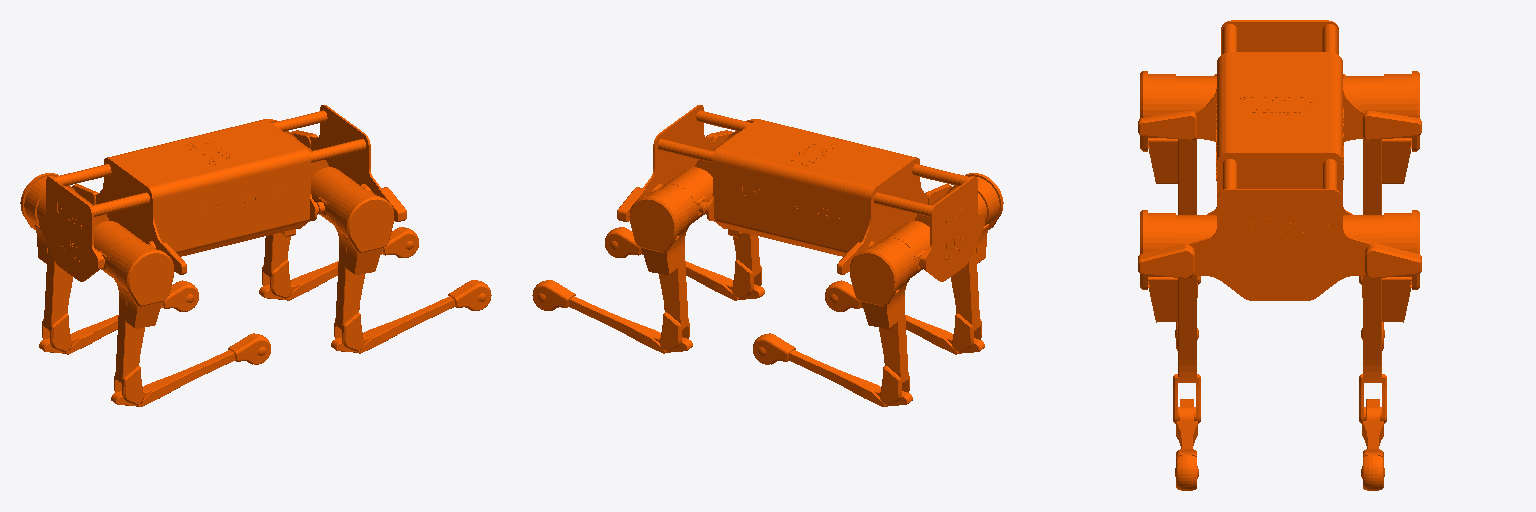
--- Render facts (derived) ---
3 views of the same robot in one strip: view 1: azimuth 30°, elevation 25°; view 2: azimuth 150°, elevation 25°; view 3: azimuth 270°, elevation 25° (orthographic).
Robot: laikago — 23 links, 22 joints (16 revolute, 6 fixed); root link base; default pose: joints at zero except 4 at the middle of their limits (FL_calf_joint = -1.69, FR_calf_joint = -1.69, RR_calf_joint = -1.69, RL_calf_joint = -1.69).
Visible links, largest first — view 1: trunk, FR_thigh, RR_thigh, RL_thigh, FR_calf, RR_calf, FL_calf, RL_calf, FL_thigh, FR_hip, RR_hip; view 2: trunk, FL_thigh, RL_thigh, RR_thigh, FL_calf, RL_calf, FR_calf, RR_calf, FR_thigh, FL_hip, RL_hip; view 3: trunk, FL_thigh, FR_thigh, RR_thigh, RL_thigh, FL_calf, FR_calf.
Link boxes in pixels (left/top/right/bottom): trunk: left=39, top=105, right=406, bottom=281; FR_thigh: left=328, top=184, right=394, bottom=350; RR_thigh: left=108, top=238, right=173, bottom=404; RL_thigh: left=20, top=173, right=77, bottom=351; FR_calf: left=331, top=280, right=491, bottom=353; RR_calf: left=111, top=333, right=270, bottom=406; FL_calf: left=259, top=227, right=418, bottom=300; RL_calf: left=39, top=280, right=198, bottom=354; FL_thigh: left=262, top=119, right=298, bottom=297; FR_hip: left=311, top=167, right=361, bottom=222; RR_hip: left=94, top=221, right=140, bottom=277; trunk: left=617, top=105, right=984, bottom=281; FL_thigh: left=629, top=184, right=695, bottom=350; RL_thigh: left=850, top=238, right=915, bottom=404; RR_thigh: left=946, top=173, right=1003, bottom=351; FL_calf: left=532, top=280, right=692, bottom=353; RL_calf: left=753, top=333, right=912, bottom=406; FR_calf: left=605, top=227, right=764, bottom=300; RR_calf: left=825, top=280, right=984, bottom=354; FR_thigh: left=725, top=119, right=761, bottom=297; FL_hip: left=662, top=167, right=712, bottom=222; RL_hip: left=883, top=221, right=929, bottom=277; trunk: left=1138, top=20, right=1421, bottom=300; FL_thigh: left=1359, top=210, right=1419, bottom=423; FR_thigh: left=1140, top=210, right=1200, bottom=423; RR_thigh: left=1140, top=71, right=1200, bottom=284; RL_thigh: left=1359, top=71, right=1419, bottom=284; FL_calf: left=1362, top=399, right=1383, bottom=490; FR_calf: left=1176, top=399, right=1197, bottom=490.
Bounding box of the posed robot: 0.7668 × 0.3799 × 0.3787 m (x, y, z).
13 mesh visuals loaded from 5 distinct referenced files (5 OBJ).

robot.urdf — laikago:
<?xml version="1.0" ?>
<!-- =================================================================================== -->
<!-- |    This document was autogenerated by xacro from robot.xacro                    | -->
<!-- |    EDITING THIS FILE BY HAND IS NOT RECOMMENDED                                 | -->
<!-- =================================================================================== -->
<robot name="laikago" xmlns:xacro="http://www.ros.org/wiki/xacro">
  <material name="black">
    <color rgba="0.0 0.0 0.0 1.0"/>
  </material>
  <material name="blue">
    <color rgba="0.0 0.0 0.8 1.0"/>
  </material>
  <material name="green">
    <color rgba="0.0 0.8 0.0 1.0"/>
  </material>
  <material name="grey">
    <color rgba="0.2 0.2 0.2 1.0"/>
  </material>
  <material name="silver">
    <color rgba="0.913725490196 0.913725490196 0.847058823529 1.0"/>
  </material>
  <material name="orange">
    <color rgba="1.0 0.423529411765 0.0392156862745 1.0"/>
  </material>
  <material name="brown">
    <color rgba="0.870588235294 0.811764705882 0.764705882353 1.0"/>
  </material>
  <material name="red">
    <color rgba="0.8 0.0 0.0 1.0"/>
  </material>
  <material name="white">
    <color rgba="1.0 1.0 1.0 1.0"/>
  </material>
  <!-- Base footpoint Link -->
  <link name="base">
    <visual>
      <origin rpy="0 0 0" xyz="0 0 0"/>
      <geometry>
        <box size="0.001 0.001 0.001"/>
      </geometry>
    </visual>
    <inertial>
      <mass value="0.001"/>
      <origin rpy="0 0 0" xyz="0 0 0"/>
      <inertia ixx="0.0001" ixy="0" ixz="0" iyy="0.000001" iyz="0" izz="0.0001"/>
    </inertial>
  </link>
  <joint name="floating_base" type="fixed">
    <origin rpy="0 0 0" xyz="0 0 0"/>
    <parent link="base"/>
    <child link="trunk"/>
  </joint>
  <!-- Base Link -->
  <link name="trunk">
    <visual>
      <origin rpy="0 0 0" xyz="0 0 0"/>
      <geometry>
        <mesh filename="meshes/trunk.obj" scale="0.025 0.025 0.025"/>
      </geometry>
      <material name="orange"/>
    </visual>
    <collision>
      <origin rpy="0 0 0" xyz="0 0 0.01675"/>
      <geometry>
        <box size="0.5616 0.172 0.1875"/>
      </geometry>
    </collision>
    <inertial>
      <origin rpy="0 0 0" xyz="0.002284 -4.1e-05 0.025165"/>
      <mass value="13.733"/>
      <inertia ixx="0.073348887" ixy="0.00030338" ixz="0.001918218" iyy="0.250684593" iyz="-7.5402e-05" izz="0.254469458"/>
    </inertial>
  </link>
  <joint name="imu_joint" type="fixed">
    <parent link="trunk"/>
    <child link="imu_link"/>
    <origin rpy="0 0 0" xyz="0 0 0"/>
  </joint>
  <link name="imu_link">
    <inertial>
      <mass value="0.001"/>
      <origin rpy="0 0 0" xyz="0 0 0"/>
      <inertia ixx="0.0001" ixy="0" ixz="0" iyy="0.000001" iyz="0" izz="0.0001"/>
    </inertial>
    <visual>
      <origin rpy="0 0 0" xyz="0 0 0"/>
      <geometry>
        <box size="0.001 0.001 0.001"/>
      </geometry>
      <material name="red"/>
    </visual>
    <collision>
      <origin rpy="0 0 0" xyz="0 0 0"/>
      <geometry>
        <box size=".001 .001 .001"/>
      </geometry>
    </collision>
  </link>
  <joint name="FL_hip_joint" type="revolute">
    <origin rpy="0 0 0" xyz="0.21935 0.0875 0"/>
    <parent link="trunk"/>
    <child link="FL_hip"/>
    <axis xyz="1 0 0"/>
    <dynamics damping="0" friction="0"/>
    <limit effort="20" lower="-0.872664625997" upper="1.0471975512" velocity="52.4"/>
  </joint>
  <link name="FL_hip">
    <visual>
      <origin rpy="0 0 0" xyz="0 0 0"/>
      <geometry>
        <mesh filename="meshes/hip.obj" scale="1 1 1"/>
      </geometry>
      <material name="orange"/>
    </visual>
    <collision>
      <origin rpy="1.57079632679 0 0" xyz="0 -0.021 0"/>
      <geometry>
        <cylinder length="0.08" radius="0.041"/>
      </geometry>
    </collision>
    <inertial>
      <origin rpy="0 0 0" xyz="-0.001568 -0.008134 0.000864"/>
      <mass value="1.096"/>
      <inertia ixx="0.000822113" ixy="-4.982e-06" ixz="-3.672e-05" iyy="0.000983196" iyz="2.811e-06" izz="0.000864753"/>
    </inertial>
  </link>
  <joint name="FL_hip_fixed" type="fixed">
    <origin rpy="0 0 0" xyz="0 0.059 0"/>
    <parent link="FL_hip"/>
    <child link="FL_thigh_shoulder"/>
  </joint>
  <!-- this link is only for collision -->
  <link name="FL_thigh_shoulder">
    <collision>
      <origin rpy="1.57079632679 0 0" xyz="0 0 0"/>
      <geometry>
        <cylinder length="0.08" radius="0.044"/>
      </geometry>
    </collision>

    <inertial>
      <mass value="0.001"/>
      <origin rpy="1.57079632679 0 0" xyz="0 0 0"/>
      <inertia ixx="0.0001" ixy="0" ixz="0" iyy="0.000001" iyz="0" izz="0.0001"/>
    </inertial>
  </link>
  <joint name="FL_thigh_joint" type="revolute">
    <origin rpy="0 0 0" xyz="0 0.037 0"/>
    <parent link="FL_hip"/>
    <child link="FL_thigh"/>
    <axis xyz="0 1 0"/>
    <dynamics damping="0" friction="0"/>
    <limit effort="55" lower="-0.523598775598" upper="3.92699081699" velocity="28.6"/>
  </joint>
  <link name="FL_thigh">
    <visual>
      <origin rpy="0 0 0" xyz="0 0 0"/>
      <geometry>
        <mesh filename="meshes/thigh.obj" scale="1 1 1"/>
      </geometry>
      <material name="orange"/>
    </visual>
    <collision>
      <origin rpy="0 1.57079632679 0" xyz="0 0 -0.125"/>
      <geometry>
        <box size="0.25 0.034 0.043"/>
      </geometry>
    </collision>
    <inertial>
      <origin rpy="0 0 0" xyz="-0.000482 0.02001 -0.031996"/>
      <mass value="1.528"/>
      <inertia ixx="0.00991611" ixy="1.0388e-05" ixz="0.000250428" iyy="0.009280083" iyz="-8.511e-05" izz="0.00178256"/>
    </inertial>
  </link>
  <joint name="FL_calf_joint" type="revolute">
    <origin rpy="0 0 0" xyz="0 0 -0.25"/>
    <parent link="FL_thigh"/>
    <child link="FL_calf"/>
    <axis xyz="0 1 0"/>
    <dynamics damping="0" friction="0"/>
    <limit effort="55" lower="-2.77507351067" upper="-0.610865238198" velocity="28.6"/>
  </joint>
  <link name="FL_calf">
    <visual>
      <origin rpy="0 0 0" xyz="0 0 0"/>
      <geometry>
        <mesh filename="meshes/calf.obj" scale="0.025 0.025 0.025"/>
      </geometry>
      <material name="orange"/>
    </visual>
    <collision>
      <origin rpy="0 1.57079632679 0" xyz="0 0 -0.125"/>
      <geometry>
        <box size="0.25 0.016 0.016"/>
      </geometry>
    </collision>
    <inertial>
      <origin rpy="0 0 0" xyz="-0.002196 -0.000381 -0.12338"/>
      <mass value="0.241"/>
      <inertia ixx="0.006181961" ixy="2.37e-07" ixz="-2.985e-06" iyy="0.006196546" iyz="5.138e-06" izz="3.4774e-05"/>
    </inertial>
  </link>
  <joint name="FL_foot_fixed" type="revolute">
    <origin rpy="0 0 0" xyz="0 0 -0.25"/>
    <parent link="FL_calf"/>
    <child link="FL_foot"/>
    <axis xyz="0 0 1"/>
    <limit effort="100.0" lower="-0.001" upper="0.001" velocity="0.05"/>
  </joint>
  <link name="FL_foot">
    <visual>
      <origin rpy="0 0 0" xyz="0 0 0"/>
      <geometry>
        <sphere radius="0.0165"/>
      </geometry>
      <material name="orange"/>
    </visual>
    <collision name="FL_foot_collision">
      <origin rpy="0 0 0" xyz="0 0 0"/>
      <geometry>
        <sphere radius="0.0265"/>
      </geometry>
    </collision>
    <inertial>
      <mass value="0.06"/>
      <inertia ixx="1.6854e-05" ixy="0.0" ixz="0.0" iyy="1.6854e-05" iyz="0.0" izz="1.6854e-05"/>
    </inertial>
  </link>
  <transmission name="FL_hip_tran">
    <type>transmission_interface/SimpleTransmission</type>
    <joint name="FL_hip_joint">
      <hardwareInterface>hardware_interface/EffortJointInterface</hardwareInterface>
    </joint>
    <actuator name="FL_hip_motor">
      <hardwareInterface>hardware_interface/EffortJointInterface</hardwareInterface>
      <mechanicalReduction>1</mechanicalReduction>
    </actuator>
  </transmission>
  <transmission name="FL_thigh_tran">
    <type>transmission_interface/SimpleTransmission</type>
    <joint name="FL_thigh_joint">
      <hardwareInterface>hardware_interface/EffortJointInterface</hardwareInterface>
    </joint>
    <actuator name="FL_thigh_motor">
      <hardwareInterface>hardware_interface/EffortJointInterface</hardwareInterface>
      <mechanicalReduction>1</mechanicalReduction>
    </actuator>
  </transmission>
  <transmission name="FL_calf_tran">
    <type>transmission_interface/SimpleTransmission</type>
    <joint name="FL_calf_joint">
      <hardwareInterface>hardware_interface/EffortJointInterface</hardwareInterface>
    </joint>
    <actuator name="FL_calf_motor">
      <hardwareInterface>hardware_interface/EffortJointInterface</hardwareInterface>
      <mechanicalReduction>1</mechanicalReduction>
    </actuator>
  </transmission>
  <joint name="FR_hip_joint" type="revolute">
    <origin rpy="0 0 0" xyz="0.21935 -0.0875 0"/>
    <parent link="trunk"/>
    <child link="FR_hip"/>
    <axis xyz="1 0 0"/>
    <dynamics damping="0" friction="0"/>
    <limit effort="20" lower="-1.0471975512" upper="0.872664625997" velocity="52.4"/>
  </joint>
  <link name="FR_hip">
    <visual>
      <origin rpy="3.14159265359 0 0" xyz="0 0 0"/>
      <geometry>
        <mesh filename="meshes/hip.obj" scale="1 1 1"/>
      </geometry>
      <material name="orange"/>
    </visual>
    <collision>
      <origin rpy="1.57079632679 0 0" xyz="0 0.021 0"/>
      <geometry>
        <cylinder length="0.08" radius="0.041"/>
      </geometry>
    </collision>
    <inertial>
      <origin rpy="0 0 0" xyz="-0.001568 0.008134 0.000864"/>
      <mass value="1.096"/>
      <inertia ixx="0.000822113" ixy="4.982e-06" ixz="-3.672e-05" iyy="0.000983196" iyz="-2.811e-06" izz="0.000864753"/>
    </inertial>
  </link>
  <joint name="FR_hip_fixed" type="fixed">
    <origin rpy="0 0 0" xyz="0 -0.059 0"/>
    <parent link="FR_hip"/>
    <child link="FR_thigh_shoulder"/>
  </joint>
  <!-- this link is only for collision -->
  <link name="FR_thigh_shoulder">
    <collision>
      <origin rpy="1.57079632679 0 0" xyz="0 0 0"/>
      <geometry>
        <cylinder length="0.08" radius="0.044"/>
      </geometry>
    </collision>
    <inertial>
      <mass value="0.001"/>
      <origin rpy="1.57079632679 0 0" xyz="0 0 0"/>
      <inertia ixx="0.0001" ixy="0" ixz="0" iyy="0.000001" iyz="0" izz="0.0001"/>
    </inertial>
  </link>
  <joint name="FR_thigh_joint" type="revolute">
    <origin rpy="0 0 0" xyz="0 -0.037 0"/>
    <parent link="FR_hip"/>
    <child link="FR_thigh"/>
    <axis xyz="0 1 0"/>
    <dynamics damping="0" friction="0"/>
    <limit effort="55" lower="-0.523598775598" upper="3.92699081699" velocity="28.6"/>
  </joint>
  <link name="FR_thigh">
    <visual>
      <origin rpy="0 0 0" xyz="0 0 0"/>
      <geometry>
        <mesh filename="meshes/thigh_mirror.obj" scale="1 1 1"/>
      </geometry>
      <material name="orange"/>
    </visual>
    <collision>
      <origin rpy="0 1.57079632679 0" xyz="0 0 -0.125"/>
      <geometry>
        <box size="0.25 0.034 0.043"/>
      </geometry>
    </collision>
    <inertial>
      <origin rpy="0 0 0" xyz="-0.000482 -0.02001 -0.031996"/>
      <mass value="1.528"/>
      <inertia ixx="0.00991611" ixy="-1.0388e-05" ixz="0.000250428" iyy="0.009280083" iyz="8.511e-05" izz="0.00178256"/>
    </inertial>
  </link>
  <joint name="FR_calf_joint" type="revolute">
    <origin rpy="0 0 0" xyz="0 0 -0.25"/>
    <parent link="FR_thigh"/>
    <child link="FR_calf"/>
    <axis xyz="0 1 0"/>
    <dynamics damping="0" friction="0"/>
    <limit effort="55" lower="-2.77507351067" upper="-0.610865238198" velocity="28.6"/>
  </joint>
  <link name="FR_calf">
    <visual>
      <origin rpy="0 0 0" xyz="0 0 0"/>
      <geometry>
        <mesh filename="meshes/calf.obj" scale="0.025 0.025 0.025"/>
      </geometry>
      <material name="orange"/>
    </visual>
    <collision>
      <origin rpy="0 1.57079632679 0" xyz="0 0 -0.125"/>
      <geometry>
        <box size="0.25 0.016 0.016"/>
      </geometry>
    </collision>
    <inertial>
      <origin rpy="0 0 0" xyz="-0.002196 -0.000381 -0.12338"/>
      <mass value="0.241"/>
      <inertia ixx="0.006181961" ixy="2.37e-07" ixz="-2.985e-06" iyy="0.006196546" iyz="5.138e-06" izz="3.4774e-05"/>
    </inertial>
  </link>
  <joint name="FR_foot_fixed" type="revolute">
    <origin rpy="0 0 0" xyz="0 0 -0.25"/>
    <parent link="FR_calf"/>
    <child link="FR_foot"/>
    <axis xyz="0 0 1"/>
    <limit effort="100.0" lower="-0.001" upper="0.001" velocity="0.05"/>
  </joint>
  <link name="FR_foot">
    <visual>
      <origin rpy="0 0 0" xyz="0 0 0"/>
      <geometry>
        <sphere radius="0.0165"/>
      </geometry>
      <material name="orange"/>
    </visual>
    <collision name="FR_foot_collision">
      <origin rpy="0 0 0" xyz="0 0 0"/>
      <geometry>
        <sphere radius="0.0265"/>
      </geometry>
    </collision>
    <inertial>
      <mass value="0.06"/>
      <inertia ixx="1.6854e-05" ixy="0.0" ixz="0.0" iyy="1.6854e-05" iyz="0.0" izz="1.6854e-05"/>
    </inertial>
  </link>
  <transmission name="FR_hip_tran">
    <type>transmission_interface/SimpleTransmission</type>
    <joint name="FR_hip_joint">
      <hardwareInterface>hardware_interface/EffortJointInterface</hardwareInterface>
    </joint>
    <actuator name="FR_hip_motor">
      <hardwareInterface>hardware_interface/EffortJointInterface</hardwareInterface>
      <mechanicalReduction>1</mechanicalReduction>
    </actuator>
  </transmission>
  <transmission name="FR_thigh_tran">
    <type>transmission_interface/SimpleTransmission</type>
    <joint name="FR_thigh_joint">
      <hardwareInterface>hardware_interface/EffortJointInterface</hardwareInterface>
    </joint>
    <actuator name="FR_thigh_motor">
      <hardwareInterface>hardware_interface/EffortJointInterface</hardwareInterface>
      <mechanicalReduction>1</mechanicalReduction>
    </actuator>
  </transmission>
  <transmission name="FR_calf_tran">
    <type>transmission_interface/SimpleTransmission</type>
    <joint name="FR_calf_joint">
      <hardwareInterface>hardware_interface/EffortJointInterface</hardwareInterface>
    </joint>
    <actuator name="FR_calf_motor">
      <hardwareInterface>hardware_interface/EffortJointInterface</hardwareInterface>
      <mechanicalReduction>1</mechanicalReduction>
    </actuator>
  </transmission>
  <joint name="RR_hip_joint" type="revolute">
    <origin rpy="0 0 0" xyz="-0.21935 -0.0875 0"/>
    <parent link="trunk"/>
    <child link="RR_hip"/>
    <axis xyz="1 0 0"/>
    <dynamics damping="0" friction="0"/>
    <limit effort="20" lower="-1.0471975512" upper="0.872664625997" velocity="52.4"/>
  </joint>
  <link name="RR_hip">
    <visual>
      <origin rpy="3.14159265359 3.14159265359 0" xyz="0 0 0"/>
      <geometry>
        <mesh filename="meshes/hip.obj" scale="1 1 1"/>
      </geometry>
      <material name="orange"/>
    </visual>
    <collision>
      <origin rpy="1.57079632679 0 0" xyz="0 0.021 0"/>
      <geometry>
        <cylinder length="0.08" radius="0.041"/>
      </geometry>
    </collision>
    <inertial>
      <origin rpy="0 0 0" xyz="0.001568 0.008134 0.000864"/>
      <mass value="1.096"/>
      <inertia ixx="0.000822113" ixy="-4.982e-06" ixz="3.672e-05" iyy="0.000983196" iyz="-2.811e-06" izz="0.000864753"/>
    </inertial>
  </link>
  <joint name="RR_hip_fixed" type="fixed">
    <origin rpy="0 0 0" xyz="0 -0.059 0"/>
    <parent link="RR_hip"/>
    <child link="RR_thigh_shoulder"/>
  </joint>
  <!-- this link is only for collision -->
  <link name="RR_thigh_shoulder">
    <collision>
      <origin rpy="1.57079632679 0 0" xyz="0 0 0"/>
      <geometry>
        <cylinder length="0.08" radius="0.044"/>
      </geometry>
    </collision>
    <inertial>
      <mass value="0.001"/>
      <origin rpy="1.57079632679 0 0" xyz="0 0 0"/>
      <inertia ixx="0.0001" ixy="0" ixz="0" iyy="0.000001" iyz="0" izz="0.0001"/>
    </inertial>
  </link>
  <joint name="RR_thigh_joint" type="revolute">
    <origin rpy="0 0 0" xyz="0 -0.037 0"/>
    <parent link="RR_hip"/>
    <child link="RR_thigh"/>
    <axis xyz="0 1 0"/>
    <dynamics damping="0" friction="0"/>
    <limit effort="55" lower="-0.523598775598" upper="3.92699081699" velocity="28.6"/>
  </joint>
  <link name="RR_thigh">
    <visual>
      <origin rpy="0 0 0" xyz="0 0 0"/>
      <geometry>
        <mesh filename="meshes/thigh_mirror.obj" scale="1 1 1"/>
      </geometry>
      <material name="orange"/>
    </visual>
    <collision>
      <origin rpy="0 1.57079632679 0" xyz="0 0 -0.125"/>
      <geometry>
        <box size="0.25 0.034 0.043"/>
      </geometry>
    </collision>
    <inertial>
      <origin rpy="0 0 0" xyz="-0.000482 -0.02001 -0.031996"/>
      <mass value="1.528"/>
      <inertia ixx="0.00991611" ixy="-1.0388e-05" ixz="0.000250428" iyy="0.009280083" iyz="8.511e-05" izz="0.00178256"/>
    </inertial>
  </link>
  <joint name="RR_calf_joint" type="revolute">
    <origin rpy="0 0 0" xyz="0 0 -0.25"/>
    <parent link="RR_thigh"/>
    <child link="RR_calf"/>
    <axis xyz="0 1 0"/>
    <dynamics damping="0" friction="0"/>
    <limit effort="55" lower="-2.77507351067" upper="-0.610865238198" velocity="28.6"/>
  </joint>
  <link name="RR_calf">
    <visual>
      <origin rpy="0 0 0" xyz="0 0 0"/>
      <geometry>
        <mesh filename="meshes/calf.obj" scale="0.025 0.025 0.025"/>
      </geometry>
      <material name="orange"/>
    </visual>
    <collision>
      <origin rpy="0 1.57079632679 0" xyz="0 0 -0.125"/>
      <geometry>
        <box size="0.25 0.016 0.016"/>
      </geometry>
    </collision>
    <inertial>
      <origin rpy="0 0 0" xyz="-0.002196 -0.000381 -0.12338"/>
      <mass value="0.241"/>
      <inertia ixx="0.006181961" ixy="2.37e-07" ixz="-2.985e-06" iyy="0.006196546" iyz="5.138e-06" izz="3.4774e-05"/>
    </inertial>
  </link>
  <joint name="RR_foot_fixed" type="revolute">
    <origin rpy="0 0 0" xyz="0 0 -0.25"/>
    <parent link="RR_calf"/>
    <child link="RR_foot"/>
    <axis xyz="0 0 1"/>
    <limit effort="100.0" lower="-0.001" upper="0.001" velocity="0.05"/>
  </joint>
  <link name="RR_foot">
    <visual>
      <origin rpy="0 0 0" xyz="0 0 0"/>
      <geometry>
        <sphere radius="0.0165"/>
      </geometry>
      <material name="orange"/>
    </visual>
    <collision name="RR_foot_collision">
      <origin rpy="0 0 0" xyz="0 0 0"/>
      <geometry>
        <sphere radius="0.0265"/>
      </geometry>
    </collision>
    <inertial>
      <mass value="0.06"/>
      <inertia ixx="1.6854e-05" ixy="0.0" ixz="0.0" iyy="1.6854e-05" iyz="0.0" izz="1.6854e-05"/>
    </inertial>
  </link>
  <transmission name="RR_hip_tran">
    <type>transmission_interface/SimpleTransmission</type>
    <joint name="RR_hip_joint">
      <hardwareInterface>hardware_interface/EffortJointInterface</hardwareInterface>
    </joint>
    <actuator name="RR_hip_motor">
      <hardwareInterface>hardware_interface/EffortJointInterface</hardwareInterface>
      <mechanicalReduction>1</mechanicalReduction>
    </actuator>
  </transmission>
  <transmission name="RR_thigh_tran">
    <type>transmission_interface/SimpleTransmission</type>
    <joint name="RR_thigh_joint">
      <hardwareInterface>hardware_interface/EffortJointInterface</hardwareInterface>
    </joint>
    <actuator name="RR_thigh_motor">
      <hardwareInterface>hardware_interface/EffortJointInterface</hardwareInterface>
      <mechanicalReduction>1</mechanicalReduction>
    </actuator>
  </transmission>
  <transmission name="RR_calf_tran">
    <type>transmission_interface/SimpleTransmission</type>
    <joint name="RR_calf_joint">
      <hardwareInterface>hardware_interface/EffortJointInterface</hardwareInterface>
    </joint>
    <actuator name="RR_calf_motor">
      <hardwareInterface>hardware_interface/EffortJointInterface</hardwareInterface>
      <mechanicalReduction>1</mechanicalReduction>
    </actuator>
  </transmission>
  <joint name="RL_hip_joint" type="revolute">
    <origin rpy="0 0 0" xyz="-0.21935 0.0875 0"/>
    <parent link="trunk"/>
    <child link="RL_hip"/>
    <axis xyz="1 0 0"/>
    <dynamics damping="0" friction="0"/>
    <limit effort="20" lower="-0.872664625997" upper="1.0471975512" velocity="52.4"/>
  </joint>
  <link name="RL_hip">
    <visual>
      <origin rpy="0 3.14159265359 0" xyz="0 0 0"/>
      <geometry>
        <mesh filename="meshes/hip.obj" scale="1 1 1"/>
      </geometry>
      <material name="orange"/>
    </visual>
    <collision>
      <origin rpy="1.57079632679 0 0" xyz="0 -0.021 0"/>
      <geometry>
        <cylinder length="0.08" radius="0.041"/>
      </geometry>
    </collision>
    <inertial>
      <origin rpy="0 0 0" xyz="0.001568 -0.008134 0.000864"/>
      <mass value="1.096"/>
      <inertia ixx="0.000822113" ixy="4.982e-06" ixz="3.672e-05" iyy="0.000983196" iyz="2.811e-06" izz="0.000864753"/>
    </inertial>
  </link>
  <joint name="RL_hip_fixed" type="fixed">
    <origin rpy="0 0 0" xyz="0 0.059 0"/>
    <parent link="RL_hip"/>
    <child link="RL_thigh_shoulder"/>
  </joint>
  <!-- this link is only for collision -->
  <link name="RL_thigh_shoulder">
    <collision>
      <origin rpy="1.57079632679 0 0" xyz="0 0 0"/>
      <geometry>
        <cylinder length="0.08" radius="0.044"/>
      </geometry>
    </collision>
    <inertial>
      <mass value="0.001"/>
      <origin rpy="1.57079632679 0 0" xyz="0 0 0"/>
      <inertia ixx="0.0001" ixy="0" ixz="0" iyy="0.000001" iyz="0" izz="0.0001"/>
    </inertial>
  </link>
  <joint name="RL_thigh_joint" type="revolute">
    <origin rpy="0 0 0" xyz="0 0.037 0"/>
    <parent link="RL_hip"/>
    <child link="RL_thigh"/>
    <axis xyz="0 1 0"/>
    <dynamics damping="0" friction="0"/>
    <limit effort="55" lower="-0.523598775598" upper="3.92699081699" velocity="28.6"/>
  </joint>
  <link name="RL_thigh">
    <visual>
      <origin rpy="0 0 0" xyz="0 0 0"/>
      <geometry>
        <mesh filename="meshes/thigh.obj" scale="1 1 1"/>
      </geometry>
      <material name="orange"/>
    </visual>
    <collision>
      <origin rpy="0 1.57079632679 0" xyz="0 0 -0.125"/>
      <geometry>
        <box size="0.25 0.034 0.043"/>
      </geometry>
    </collision>
    <inertial>
      <origin rpy="0 0 0" xyz="-0.000482 0.02001 -0.031996"/>
      <mass value="1.528"/>
      <inertia ixx="0.00991611" ixy="1.0388e-05" ixz="0.000250428" iyy="0.009280083" iyz="-8.511e-05" izz="0.00178256"/>
    </inertial>
  </link>
  <joint name="RL_calf_joint" type="revolute">
    <origin rpy="0 0 0" xyz="0 0 -0.25"/>
    <parent link="RL_thigh"/>
    <child link="RL_calf"/>
    <axis xyz="0 1 0"/>
    <dynamics damping="0" friction="0"/>
    <limit effort="55" lower="-2.77507351067" upper="-0.610865238198" velocity="28.6"/>
  </joint>
  <link name="RL_calf">
    <visual>
      <origin rpy="0 0 0" xyz="0 0 0"/>
      <geometry>
        <mesh filename="meshes/calf.obj" scale="0.025 0.025 0.025"/>
      </geometry>
      <material name="orange"/>
    </visual>
    <collision>
      <origin rpy="0 1.57079632679 0" xyz="0 0 -0.125"/>
      <geometry>
        <box size="0.25 0.016 0.016"/>
      </geometry>
    </collision>
    <inertial>
      <origin rpy="0 0 0" xyz="-0.002196 -0.000381 -0.12338"/>
      <mass value="0.241"/>
      <inertia ixx="0.006181961" ixy="2.37e-07" ixz="-2.985e-06" iyy="0.006196546" iyz="5.138e-06" izz="3.4774e-05"/>
    </inertial>
  </link>
  <joint name="RL_foot_fixed" type="revolute">
    <origin rpy="0 0 0" xyz="0 0 -0.25"/>
    <parent link="RL_calf"/>
    <child link="RL_foot"/>
    <axis xyz="0 0 1"/>
    <limit effort="100.0" lower="-0.001" upper="0.001" velocity="0.05"/>
  </joint>
  <link name="RL_foot">
    <visual>
      <origin rpy="0 0 0" xyz="0 0 0"/>
      <geometry>
        <sphere radius="0.0165"/>
      </geometry>
      <material name="orange"/>
    </visual>
    <collision name="RL_foot_collision">
      <origin rpy="0 0 0" xyz="0 0 0"/>
      <geometry>
        <sphere radius="0.0265"/>
      </geometry>
    </collision>
    <inertial>
      <mass value="0.06"/>
      <inertia ixx="1.6854e-05" ixy="0.0" ixz="0.0" iyy="1.6854e-05" iyz="0.0" izz="1.6854e-05"/>
    </inertial>
  </link>
  <transmission name="RL_hip_tran">
    <type>transmission_interface/SimpleTransmission</type>
    <joint name="RL_hip_joint">
      <hardwareInterface>hardware_interface/EffortJointInterface</hardwareInterface>
    </joint>
    <actuator name="RL_hip_motor">
      <hardwareInterface>hardware_interface/EffortJointInterface</hardwareInterface>
      <mechanicalReduction>1</mechanicalReduction>
    </actuator>
  </transmission>
  <transmission name="RL_thigh_tran">
    <type>transmission_interface/SimpleTransmission</type>
    <joint name="RL_thigh_joint">
      <hardwareInterface>hardware_interface/EffortJointInterface</hardwareInterface>
    </joint>
    <actuator name="RL_thigh_motor">
      <hardwareInterface>hardware_interface/EffortJointInterface</hardwareInterface>
      <mechanicalReduction>1</mechanicalReduction>
    </actuator>
  </transmission>
  <transmission name="RL_calf_tran">
    <type>transmission_interface/SimpleTransmission</type>
    <joint name="RL_calf_joint">
      <hardwareInterface>hardware_interface/EffortJointInterface</hardwareInterface>
    </joint>
    <actuator name="RL_calf_motor">
      <hardwareInterface>hardware_interface/EffortJointInterface</hardwareInterface>
      <mechanicalReduction>1</mechanicalReduction>
    </actuator>
  </transmission>
</robot>
